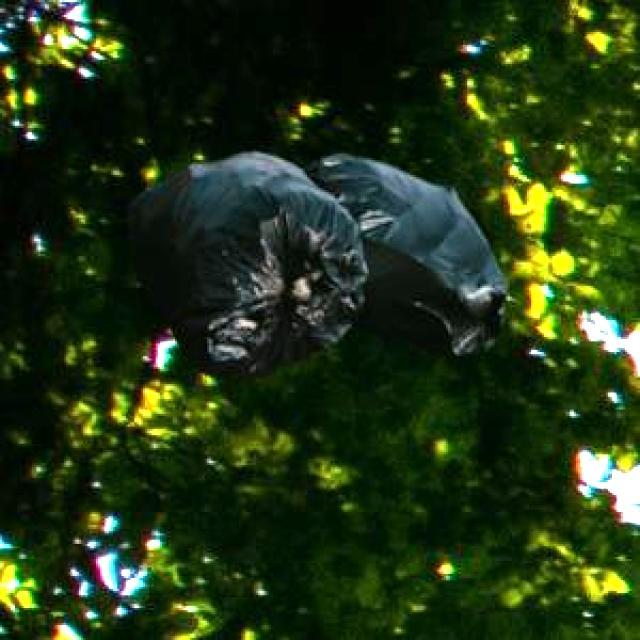Garbage_Bag: (125, 150, 502, 377)
